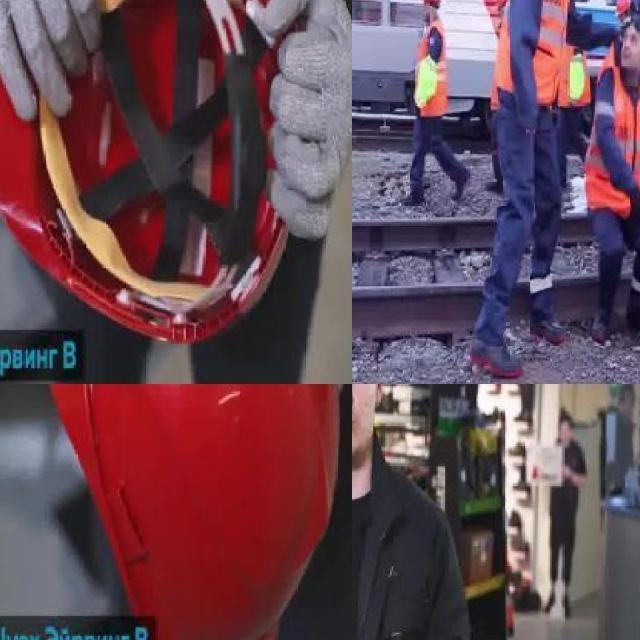apron: (262, 0, 352, 241), (0, 0, 116, 128), (630, 190, 640, 224)
